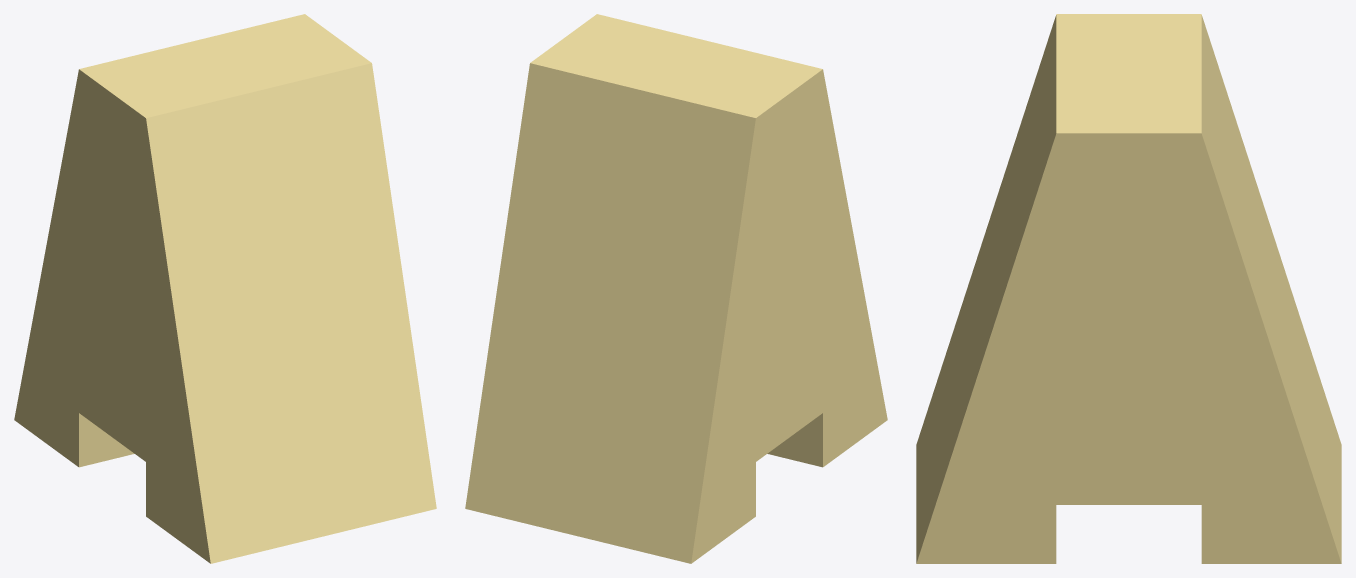
Rendered from input.gltf.
The picture shows the model from 3 angles, left to right: view 1: azimuth 30°, elevation 25°; view 2: azimuth 150°, elevation 25°; view 3: azimuth 270°, elevation 25°; orthographic projection. The views are drawn at different scales.
Parts seen in each view (by area): view 1: Renderer Node; view 2: Renderer Node; view 3: Renderer Node.
Part boxes in pixels (x1,y1,x2,y2): Renderer Node: (14, 14, 436, 563); Renderer Node: (465, 14, 887, 563); Renderer Node: (916, 14, 1341, 563).
Size of the model in its own units: 0.4453 by 0.75 by 0.6711.
